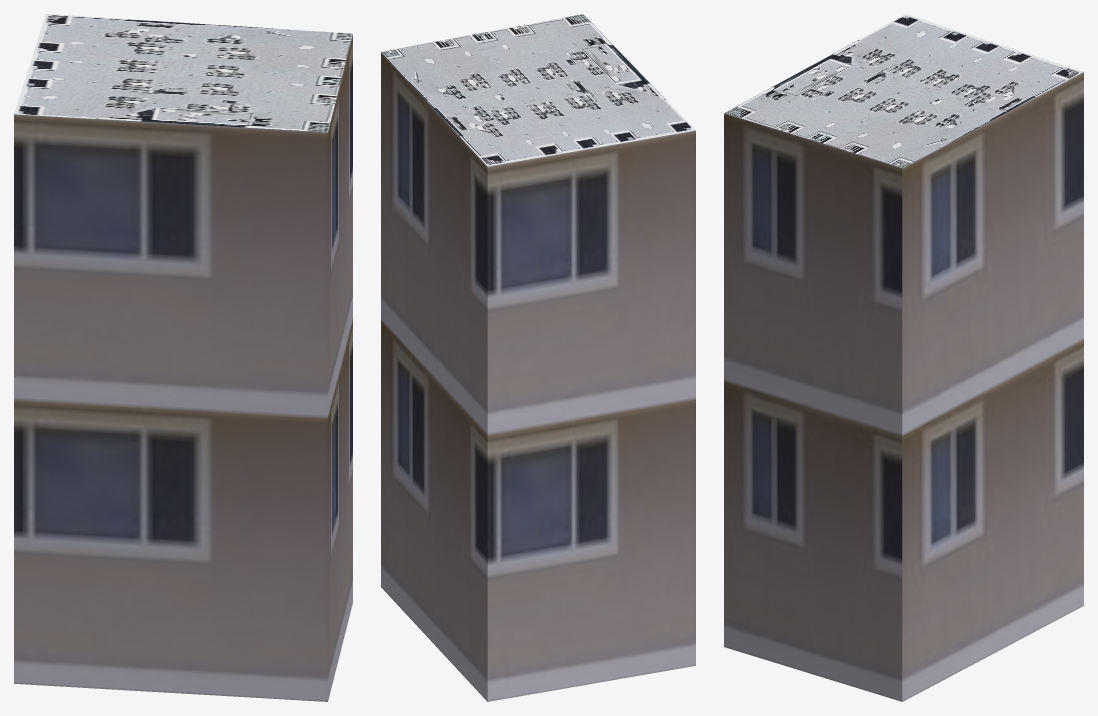
Rendered from ResTex__3612.fbx.
The picture shows the model from 3 angles, left to right: view 1: azimuth 30°, elevation 25°; view 2: azimuth 150°, elevation 25°; view 3: azimuth 270°, elevation 25°; orthographic projection. The views are drawn at different scales.
Parts seen in each view (by area): view 1: CityEngineMaterial_21_m, CityEngineMaterial_m; view 2: CityEngineMaterial_21_m, CityEngineMaterial_m; view 3: CityEngineMaterial_21_m, CityEngineMaterial_m.
Part boxes in pixels (left/top/right/bottom): CityEngineMaterial_21_m: left=14, top=34, right=352, bottom=701; CityEngineMaterial_m: left=14, top=14, right=352, bottom=132; CityEngineMaterial_21_m: left=381, top=52, right=695, bottom=701; CityEngineMaterial_m: left=381, top=14, right=695, bottom=166; CityEngineMaterial_21_m: left=724, top=72, right=1083, bottom=701; CityEngineMaterial_m: left=724, top=14, right=1083, bottom=167.
Size of the model in its own units: 3.71 by 6 by 3.66.
2 materials, 2 textured.
